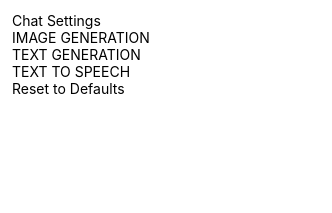
Test: GenerationSettingsModal › collapses image settings when tapped twice
This screenshot has width=332, height=213.
Step 1. Click the text "IMAGE GENERATION" → {"x": 81, "y": 38}, box x1=12 y1=29 x2=150 y2=46
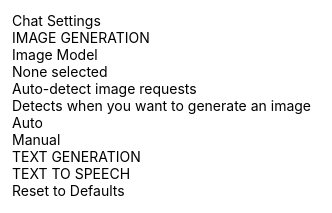
Check: the text "Image Model" is shown, box x1=12 y1=46 x2=98 y2=63
Step 2. Click the text "IMAGE GENERATION" → {"x": 81, "y": 38}, box x1=12 y1=29 x2=150 y2=46
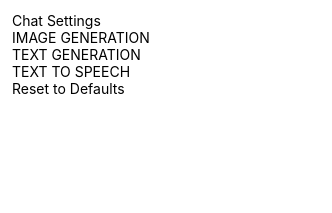
Check: the text "Image Model" is gone
